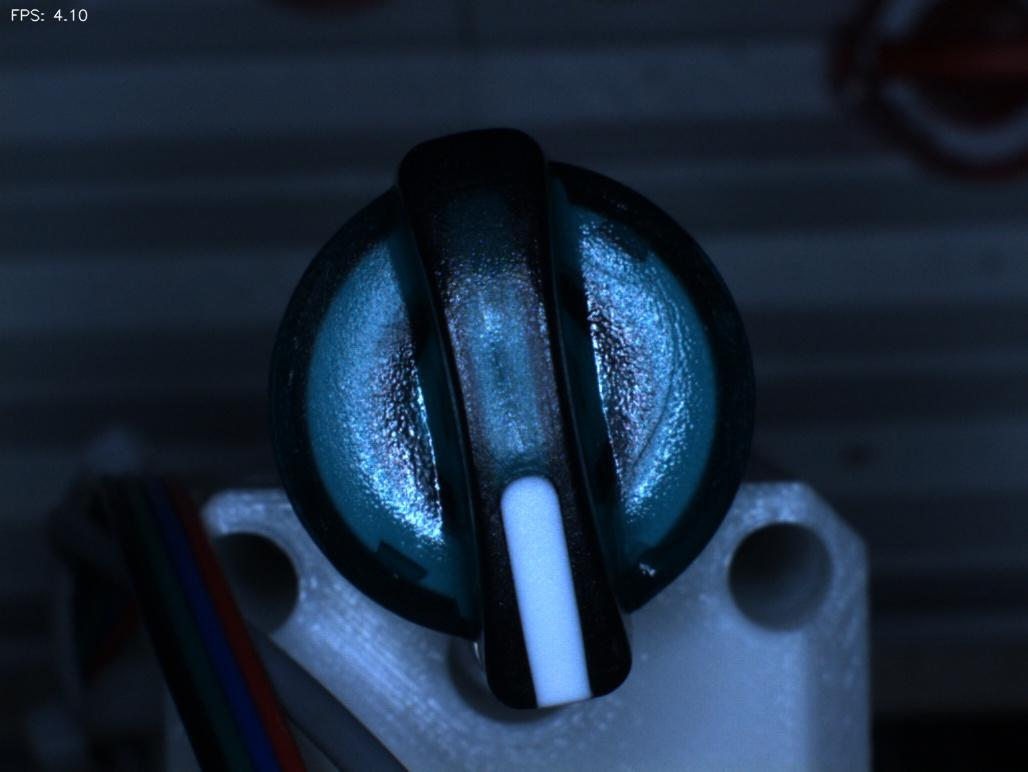Choc: (607, 521, 695, 611)
